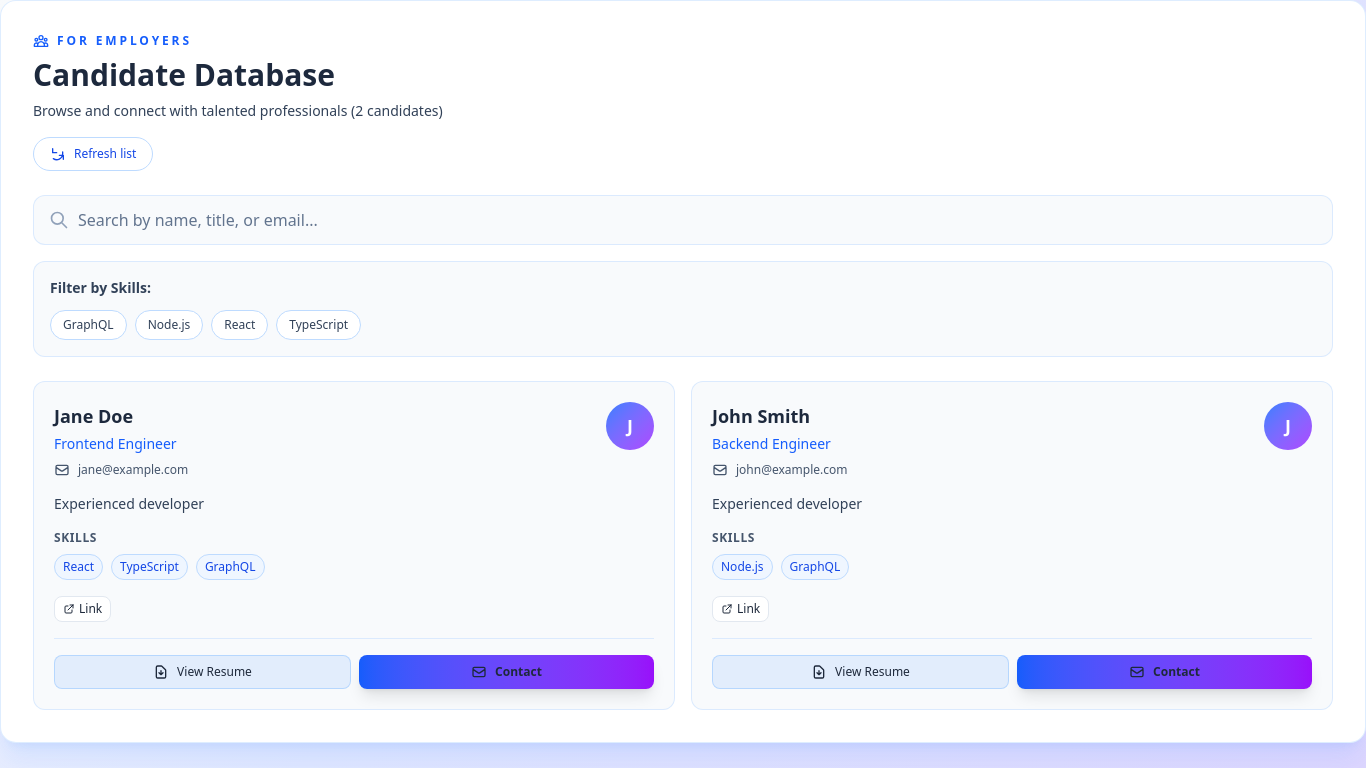
Test case: CandidateList › renders server candidates and filters by skill
Expected: the heading "Jane Doe" is shown, [54, 404, 133, 428]
Expected: the heading "John Smith" is shown, [712, 404, 810, 428]
What coordinates should you click on to do the following:
click the button "React"
I would click on:
 (240, 325)
Its box is [211, 310, 268, 340].
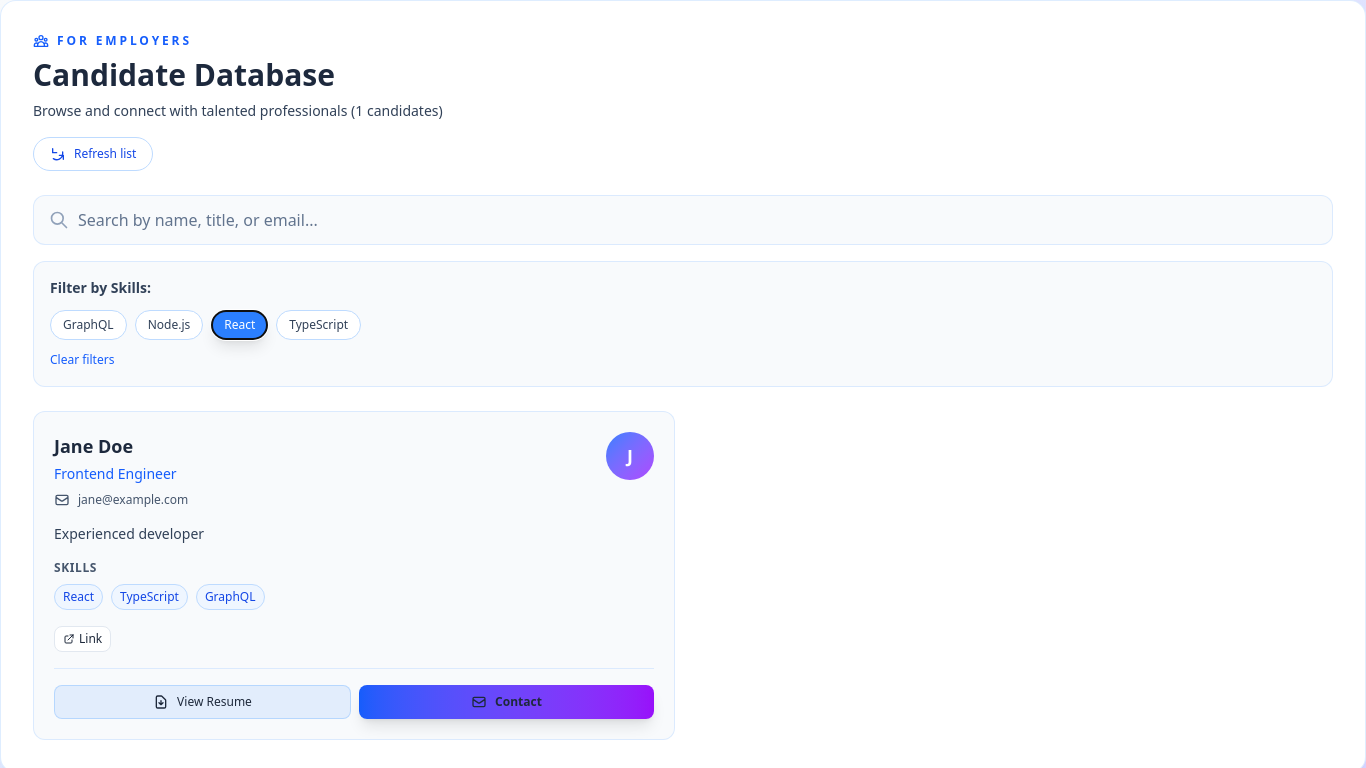
Expected: the heading "Jane Doe" is shown, [54, 434, 133, 458]
Now the heading "John Smith" is gone
What coordinates should you click on to do the following:
click the button "Clear filters"
I would click on:
 (82, 360)
Its box is [50, 352, 114, 368].
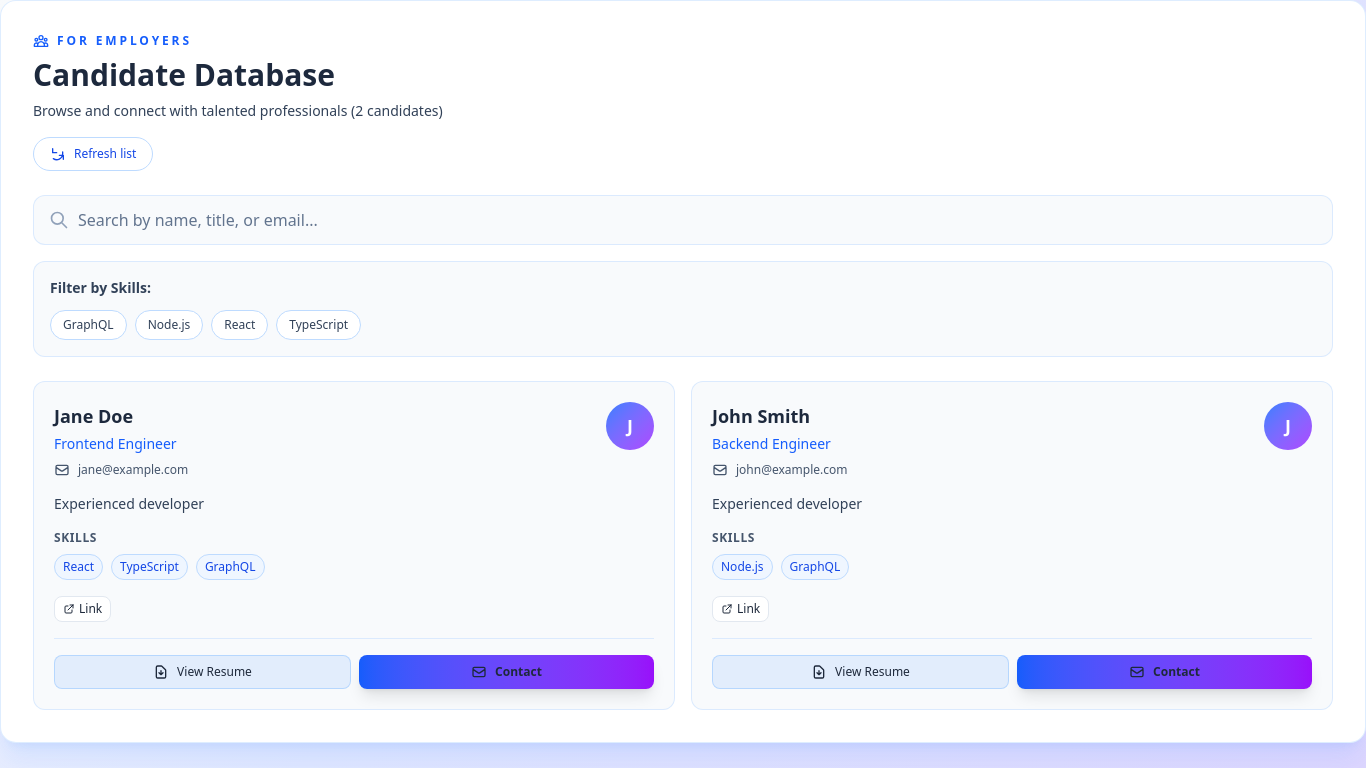
Now the heading "John Smith" is shown, box [712, 404, 810, 428]
